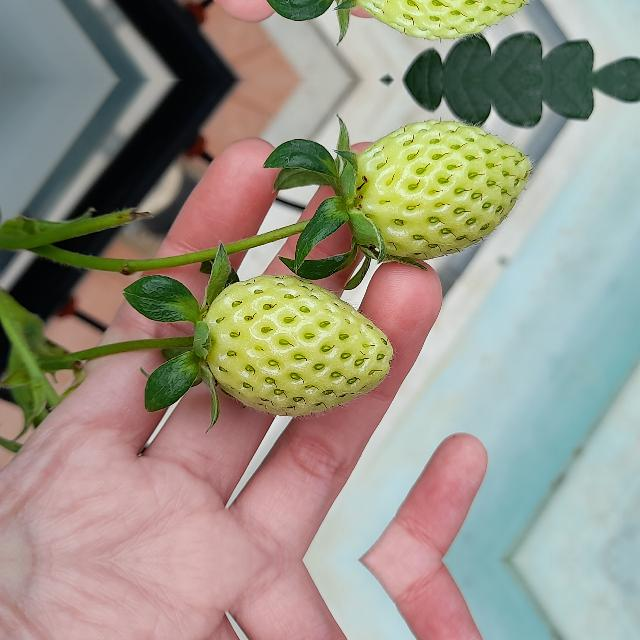Health_25: (337, 113, 536, 261), (202, 274, 392, 416), (336, 0, 535, 47)
